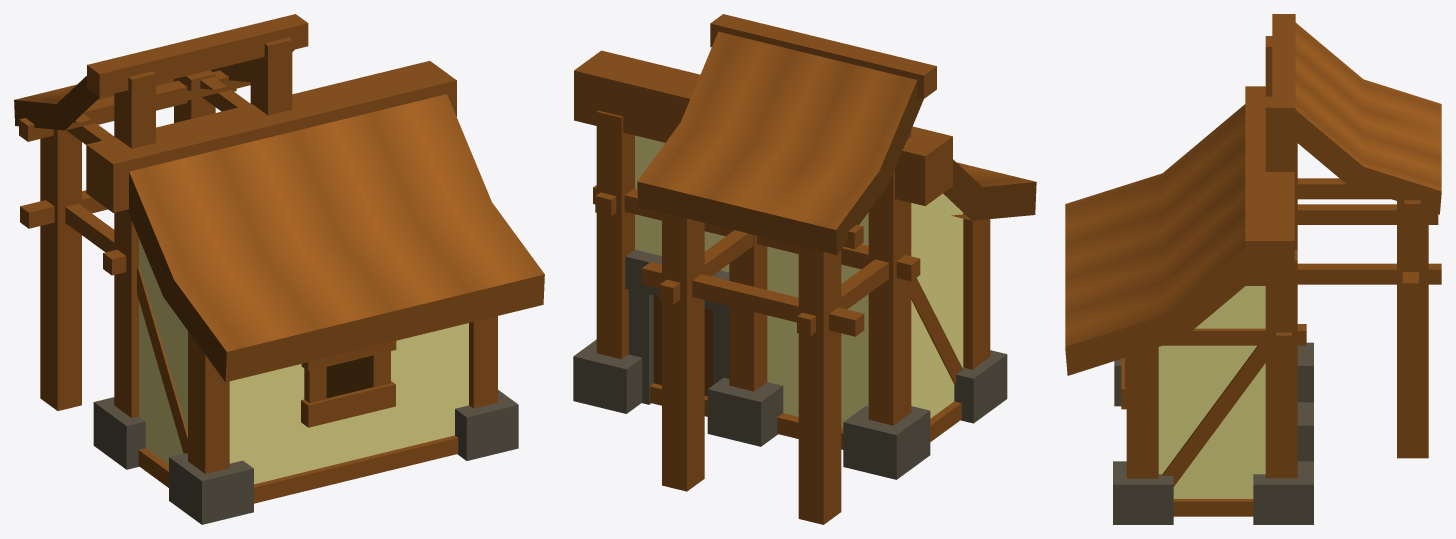
File: foresterb.fbx
3 renders of one model, left to right at view 1: azimuth 30°, elevation 25°; view 2: azimuth 150°, elevation 25°; view 3: azimuth 270°, elevation 25°, orthographic. The views are drawn at different scales.
Visible parts, largest first — view 1: polySurface9; view 2: polySurface9; view 3: polySurface9.
Boxes of the visible parts, bbox=[...] form: polySurface9: bbox=[14, 14, 544, 524]; polySurface9: bbox=[573, 14, 1036, 524]; polySurface9: bbox=[1065, 14, 1441, 524].
Bounding box in the file's own units: 101 × 110 × 104.
Materials: 1 (1 with a texture image).
